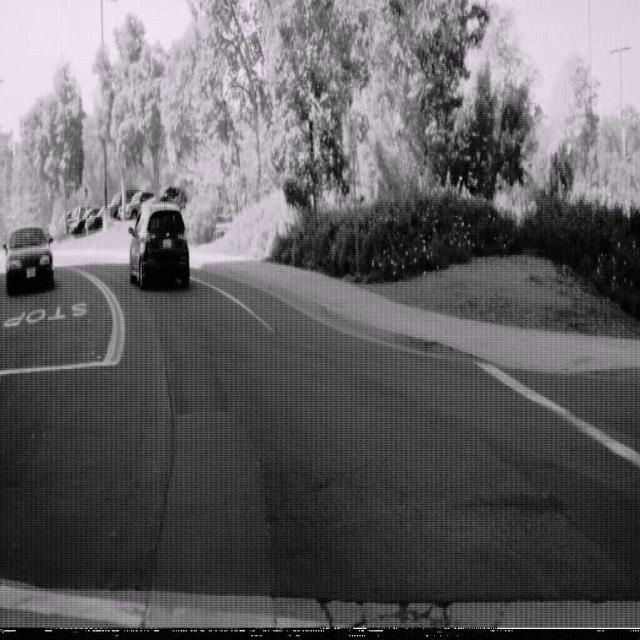pedestrianCrossing: (77, 178, 94, 210)
